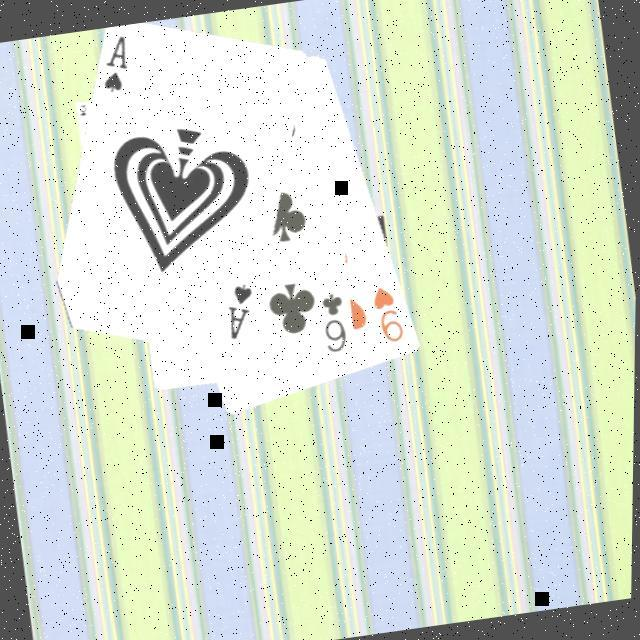6C: (316, 288, 352, 354)
9H: (366, 279, 409, 346)
AS: (92, 30, 134, 96), (219, 278, 262, 342)
